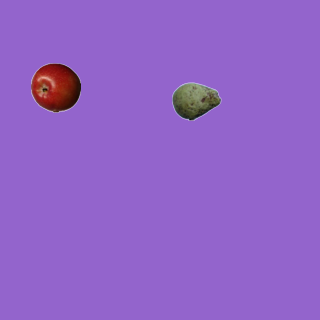Apple Braeburn: (30, 62, 80, 112)
Pear Stone: (171, 76, 221, 126)
